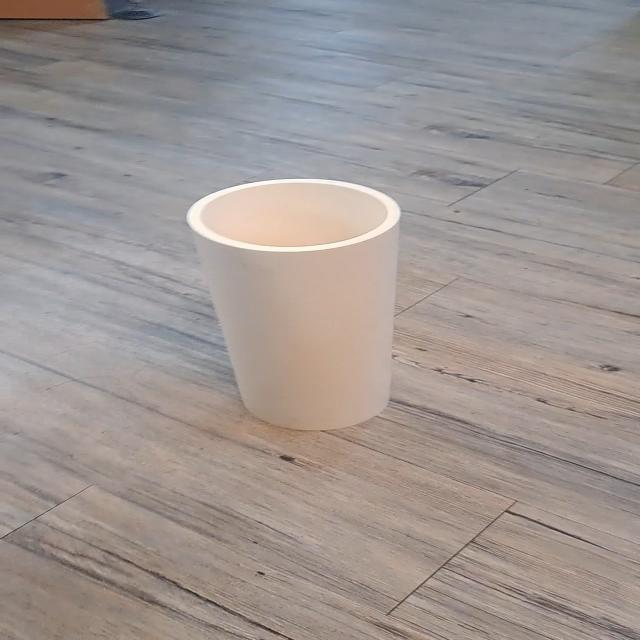CORAL: (160, 172, 464, 440)
